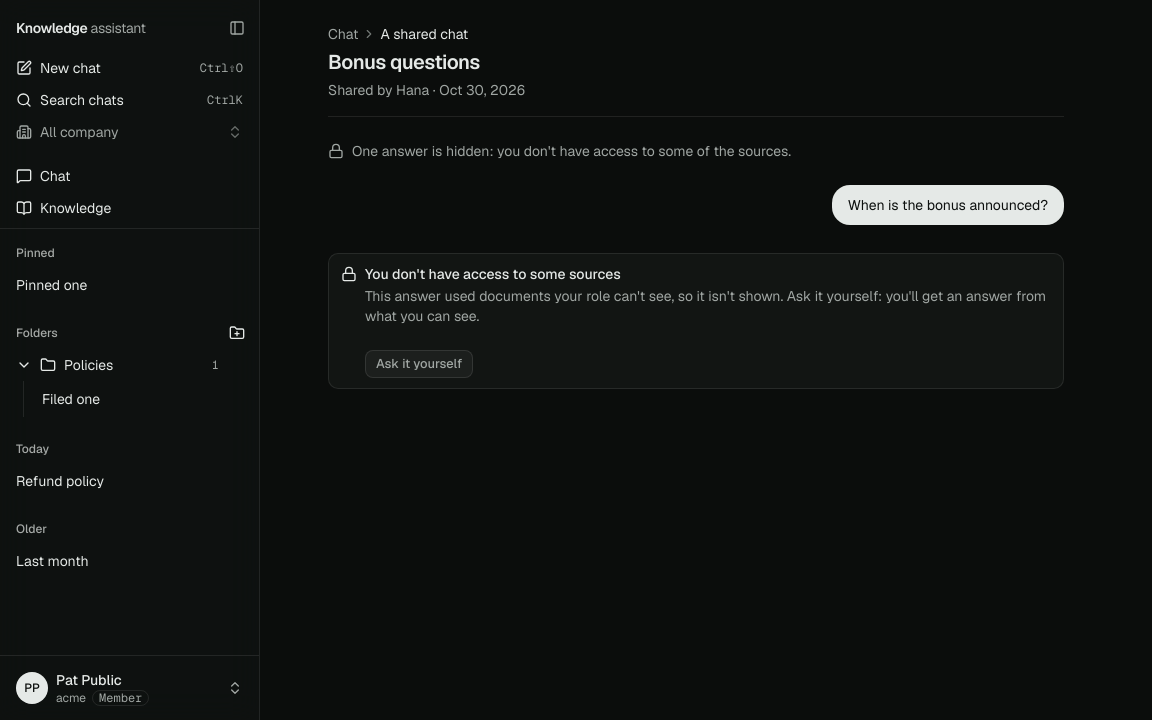
Test case: a shared chat › withholds an answer the viewer may not read, and offers to ask it
The width and height of the screenshot is (1152, 720).
Expected: the heading "Bonus questions" is shown, [328, 49, 480, 75]
Expected: the text "Shared by Hana · Oct 30, 2026" is shown, [328, 81, 525, 99]
What coordinates should you click on to do the following:
click the button "Ask it yourself"
I would click on:
 (419, 364)
Its box is [365, 350, 473, 378].
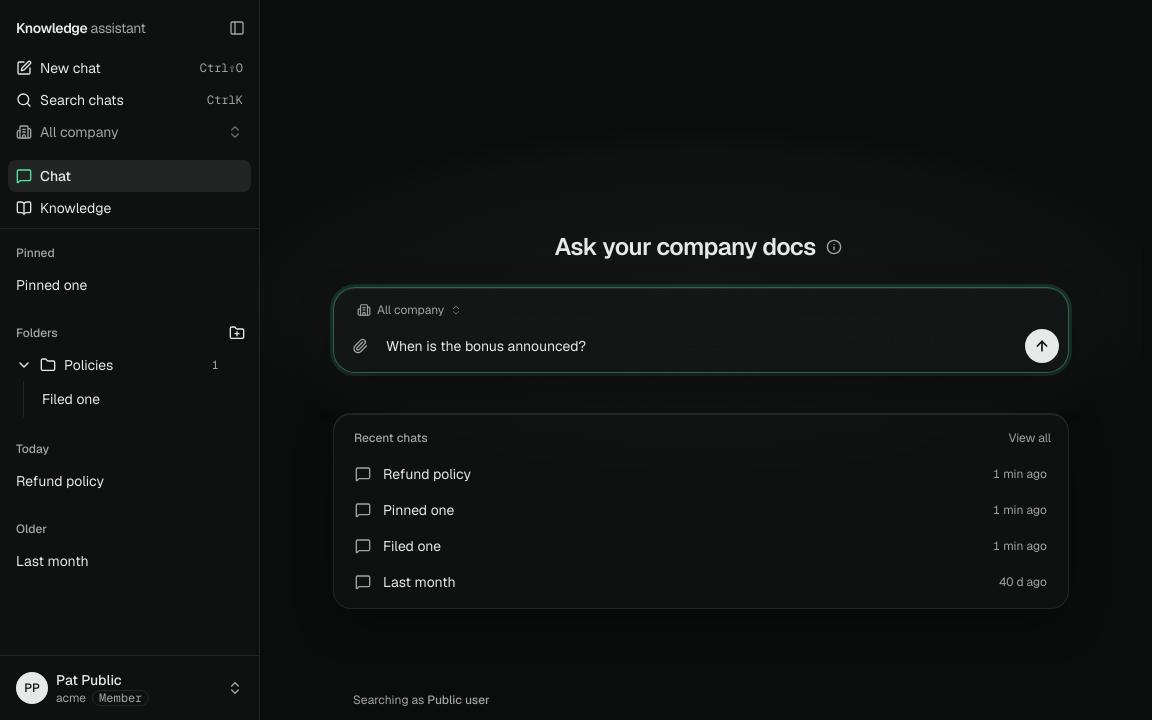
Expected: the text box named "Your question" holds "When is the bonus announced?", [386, 328, 1016, 364]
